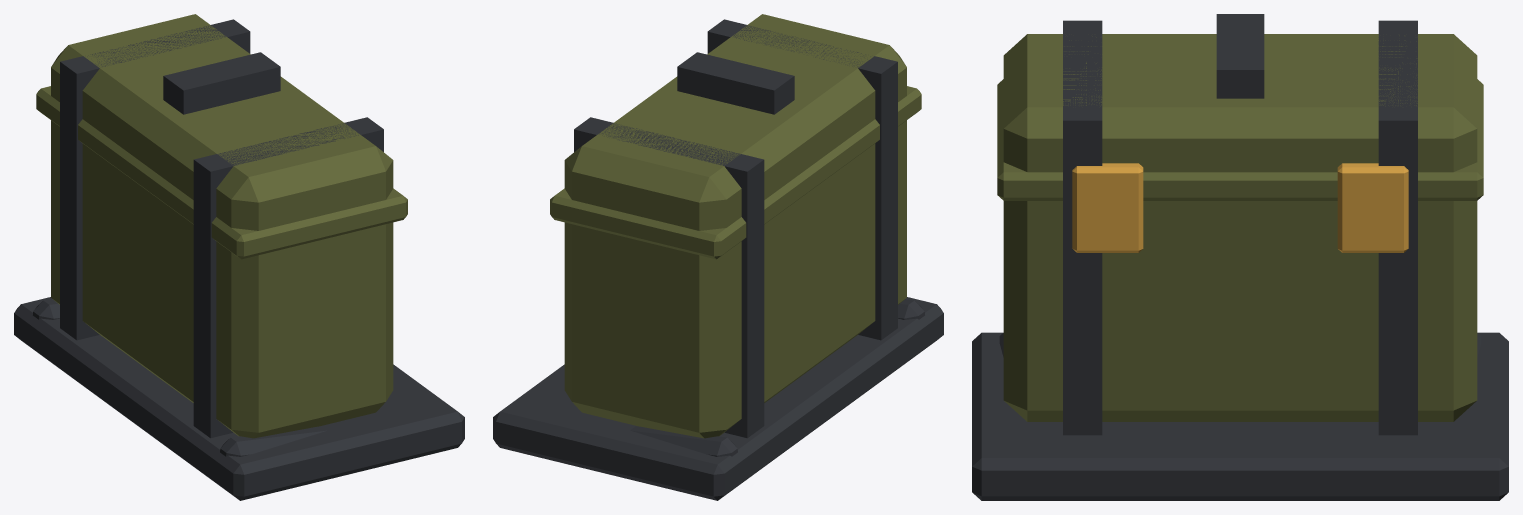
Rendered from SniperKit4.obj.
3 views of the same model, side by side, from view 1: azimuth 30°, elevation 25°; view 2: azimuth 150°, elevation 25°; view 3: azimuth 270°, elevation 25° (orthographic). The views are drawn at different scales.
Visible parts, largest first — view 1: SniperKit4; view 2: SniperKit4; view 3: SniperKit4.
Boxes of the visible parts, <box> form: SniperKit4: <box>14,14,464,500</box>; SniperKit4: <box>493,14,943,500</box>; SniperKit4: <box>972,14,1508,500</box>.
Bounding box in the file's own units: 0.2 × 0.27 × 0.34.
